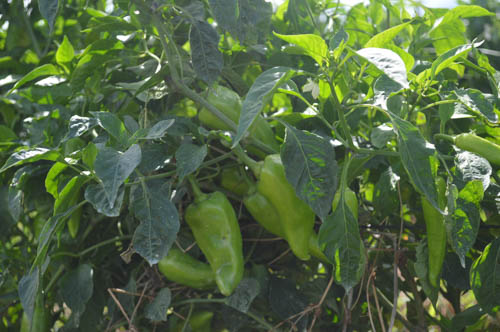ChiliPepper: (244, 187, 327, 264), (188, 191, 243, 295), (198, 85, 281, 153), (260, 154, 312, 259), (154, 254, 211, 290), (332, 188, 357, 267), (424, 177, 438, 288), (454, 135, 495, 159)
